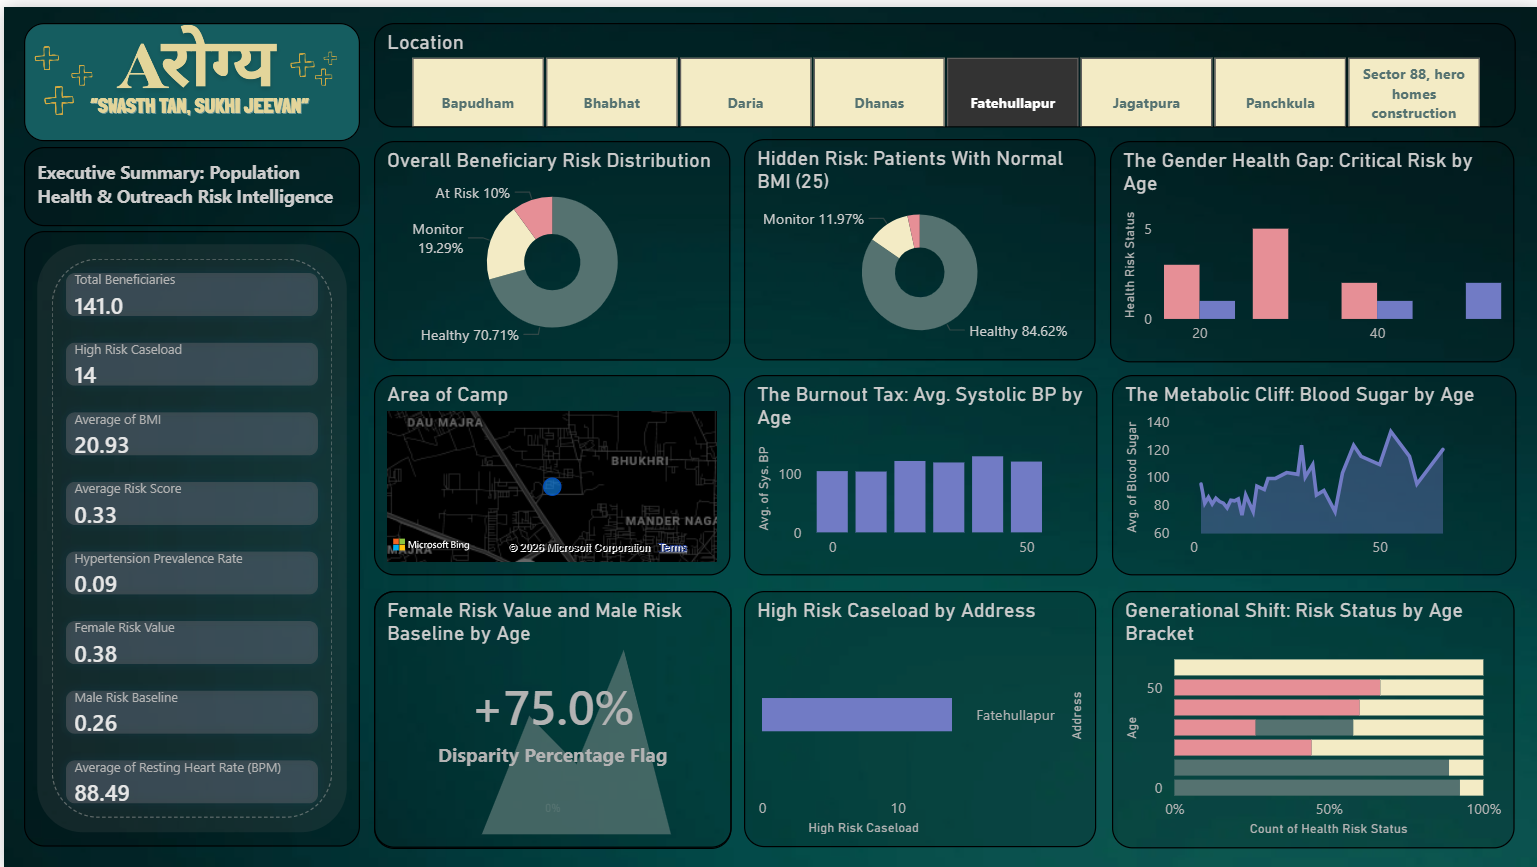

This screenshot's page, from the dashboard's own definition file:
{"tool":"powerbi","page":{"name":"Page 1","canvas":[1280,720],"ordinal":0},"visuals":[{"type":"donutChart","title":"Overall Beneficiary Risk Distribution","fields":{"Category":["Sheet1.Health Risk Status"],"Y":["CountNonNull(Sheet1.Health Risk Status)"]},"box":[308.6,111.4,297.1,182.9],"z":0},{"type":"hundredPercentStackedBarChart","title":"Generational Shift: Risk Status by Age Bracket","fields":{"Category":["Sheet1.Age (bins)"],"Y":["CountNonNull(Sheet1.Health Risk Status)"],"Series":["Sheet1.Health Risk Status"]},"box":[922.7,486.4,335.5,214.5],"z":1000},{"type":"lineChart","title":"The Metabolic Cliff: Blood Sugar by Age","fields":{"Category":["Sheet1.Age"],"Y":["Avg(Sheet1.Blood Sugar)"]},"box":[922.9,307.1,337.1,167.1],"z":2000},{"type":"clusteredColumnChart","title":"The Gender Health Gap: Critical Risk by Age","fields":{"Category":["Sheet1.Age (bins)"],"Series":["Sheet1.Gender"],"Y":["CountNonNull(Sheet1.Health Risk Status)"]},"box":[921.4,111.4,337.1,184.3],"z":3000},{"type":"slicer","title":"Location","fields":{"Values":["Sheet1.Address"]},"box":[308.6,12.9,951.4,87],"z":4000},{"type":"map","title":"Area of Camp","fields":{"Y":["Sheet1 (4).Latitude"],"X":["Sheet1 (4).Longitute"],"Size":["CountNonNull(Sheet1.Health Risk Status)"]},"box":[308.6,307.1,297.1,167.1],"z":5000},{"type":"donutChart","title":"Hidden Risk: Patients With Normal BMI (25)","fields":{"Category":["Sheet1.Health Risk Status"],"Y":["CountNonNull(Sheet1.Health Risk Status)"]},"box":[616.7,110,292.9,184.3],"z":6000},{"type":"clusteredColumnChart","title":"The Burnout Tax: Avg. Systolic BP by Age","fields":{"Category":["Sheet1.Age (bins)"],"Y":["Avg(Sheet1.Systolic BP)"]},"box":[617.1,307.1,294.3,167.1],"z":7000},{"type":"cardVisual","fields":{"Data":["_Calculated Measures.'Total_Beneficiaries'","_Calculated Measures.High_Risk_Caseload","Avg(Sheet1 (4).BMI)","_Calculated Measures.Avg_Risk_Score","_Calculated Measures.Hypertension_Prevalence_Rate","_Calculated Measures.Female_Risk_Value","_Calculated Measures.Male_Risk_Baseline","Avg(Sheet1 (4).Resting Heart Rate (BPM))"]},"box":[17.1,187.1,280,512.9],"z":8000},{"type":"image","box":[16.7,13.3,280,98.3],"z":9000},{"type":"kpi","title":"Female Risk Value and Male Risk Baseline by Age","fields":{"Goal":["_Calculated Measures.Male Risk Baseline"],"Indicator":["_Calculated Measures.Female Risk Value"],"TrendLine":["Sheet1.Age (bins)"]},"box":[308,486,298,214],"z":10000},{"type":"clusteredBarChart","fields":{"Category":["Sheet1.Address"],"Y":["_Calculated Measures.High Risk Caseload"]},"box":[617.3,486.4,293.6,213.6],"z":11000},{"type":"textbox","box":[16.7,116.7,280,66],"z":12000},{"type":"cardVisual","fields":{"Data":["_Calculated Measures.Disparity Percentage Flag"]},"box":[308,486,298,215],"z":13000}]}

Visuals, with their boxes in screenshot pixels (x1, y1, x2, y2), scaled from the page's 1280x720 canvas onto the 1537x867 screenshot:
"Overall Beneficiary Risk Distribution" donutChart: locate(371, 134, 727, 354)
"Generational Shift: Risk Status by Age Bracket" hundredPercentStackedBarChart: locate(1108, 586, 1511, 844)
"The Metabolic Cliff: Blood Sugar by Age" lineChart: locate(1108, 370, 1513, 571)
"The Gender Health Gap: Critical Risk by Age" clusteredColumnChart: locate(1106, 134, 1511, 356)
"Location" slicer: locate(371, 16, 1513, 120)
"Area of Camp" map: locate(371, 370, 727, 571)
"Hidden Risk: Patients With Normal BMI (25)" donutChart: locate(741, 132, 1092, 354)
"The Burnout Tax: Avg. Systolic BP by Age" clusteredColumnChart: locate(741, 370, 1094, 571)
cardVisual - _Calculated Measures.'Total_Beneficiaries' x _Calculated Measures.High_Risk_Caseload: locate(21, 225, 357, 843)
image: locate(20, 16, 356, 134)
"Female Risk Value and Male Risk Baseline by Age" kpi: locate(370, 585, 728, 843)
clusteredBarChart - Sheet1.Address x _Calculated Measures.High Risk Caseload: locate(741, 586, 1094, 843)
textbox: locate(20, 141, 356, 220)
cardVisual - _Calculated Measures.Disparity Percentage Flag: locate(370, 585, 728, 844)
